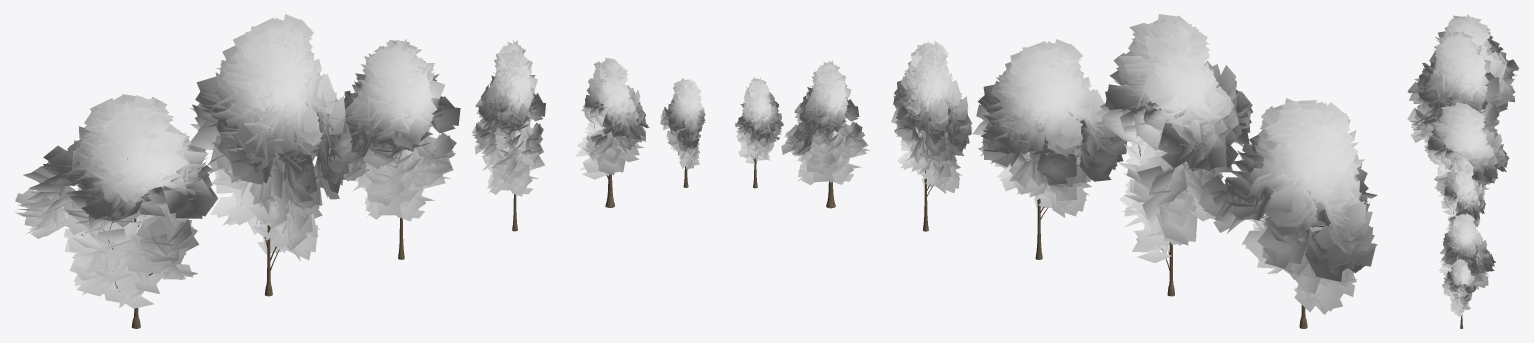
The model's file is Small_Trees_2A.fbx.
3 renders of one model, left to right at view 1: azimuth 30°, elevation 25°; view 2: azimuth 150°, elevation 25°; view 3: azimuth 270°, elevation 25°, orthographic. The views are drawn at different scales.
Parts seen in each view (by area): view 1: Small_Tree_2A1, Small_Tree_2A2, Small_Tree_2A3, Small_Tree_2A4, Small_Tree_2A5, Small_Tree_2A6; view 2: Small_Tree_2A1, Small_Tree_2A2, Small_Tree_2A3, Small_Tree_2A4, Small_Tree_2A5, Small_Tree_2A6; view 3: Small_Tree_2A2, Small_Tree_2A3, Small_Tree_2A1, Small_Tree_2A5, Small_Tree_2A4, Small_Tree_2A6.
Part boxes in pixels (x1,y1,x2,y2): Small_Tree_2A1: (14,94,218,328); Small_Tree_2A2: (189,14,352,296); Small_Tree_2A3: (343,39,460,259); Small_Tree_2A4: (472,40,545,231); Small_Tree_2A5: (575,57,649,207); Small_Tree_2A6: (660,78,705,187); Small_Tree_2A1: (1198,98,1377,328); Small_Tree_2A2: (1095,14,1252,296); Small_Tree_2A3: (972,39,1127,259); Small_Tree_2A4: (891,40,971,231); Small_Tree_2A5: (781,60,870,208); Small_Tree_2A6: (735,77,783,188); Small_Tree_2A2: (1407,29,1499,176); Small_Tree_2A3: (1424,102,1509,214); Small_Tree_2A1: (1429,14,1519,112); Small_Tree_2A5: (1438,213,1495,289); Small_Tree_2A4: (1443,156,1485,233); Small_Tree_2A6: (1442,259,1476,328).
Size of the model in its own units: 3482 by 1387 by 823.
